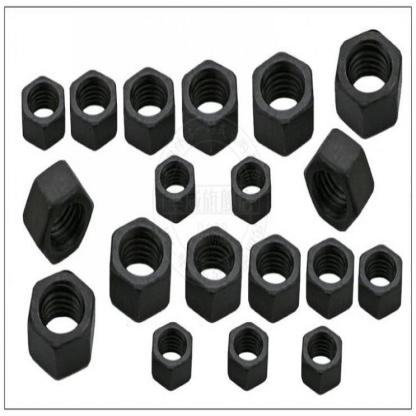FOD: (26, 267, 97, 385), (22, 158, 96, 266), (333, 28, 403, 138), (303, 127, 375, 232), (106, 214, 173, 322), (252, 48, 314, 158), (179, 56, 240, 158), (184, 222, 243, 323), (247, 228, 302, 326), (121, 64, 177, 155), (68, 64, 118, 154), (304, 235, 355, 319), (18, 69, 65, 149), (146, 320, 194, 393), (226, 318, 271, 395), (358, 243, 402, 321), (298, 324, 346, 393), (228, 153, 272, 226), (152, 155, 198, 223)
